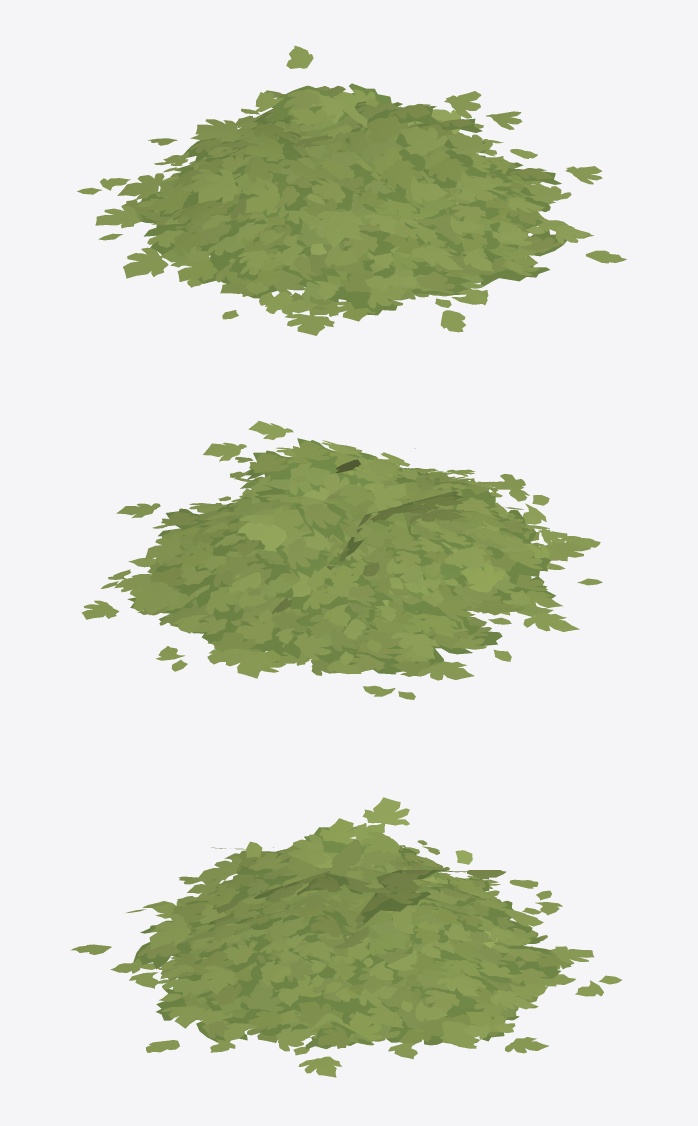
Rendered from SM_Env_Vine_08.fbx.
3 views of the same model, one above another, from view 1: azimuth 30°, elevation 25°; view 2: azimuth 150°, elevation 25°; view 3: azimuth 270°, elevation 25° (orthographic). The views are drawn at different scales.
Visible parts, largest first — view 1: SM_Env_Vine_08; view 2: SM_Env_Vine_08; view 3: SM_Env_Vine_08.
Part boxes in pixels (x1,y1,x2,y2): SM_Env_Vine_08: [77, 45, 626, 335]; SM_Env_Vine_08: [81, 421, 602, 699]; SM_Env_Vine_08: [70, 797, 621, 1077].
Size of the model in its own units: 352 by 76.71 by 352.
